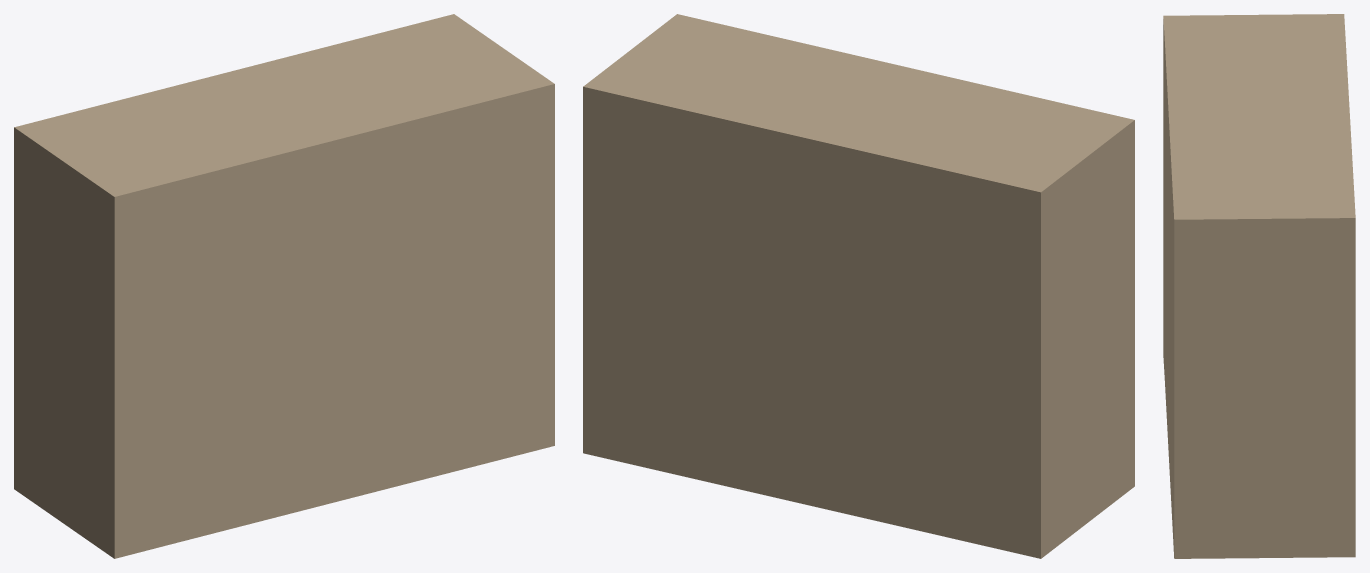
Rendered from bld_106415169.dae.
The picture shows the model from 3 angles, left to right: view 1: azimuth 30°, elevation 25°; view 2: azimuth 150°, elevation 25°; view 3: azimuth 270°, elevation 25°; orthographic projection. The views are drawn at different scales.
Visible parts, largest first — view 1: bld_106415169; view 2: bld_106415169; view 3: bld_106415169.
Boxes of the visible parts, x1,y1,x2,y2 form: bld_106415169: (14, 14, 554, 558); bld_106415169: (583, 14, 1134, 558); bld_106415169: (1163, 14, 1355, 558).
Size of the model in its own units: 10.41 by 4.11 by 8.
